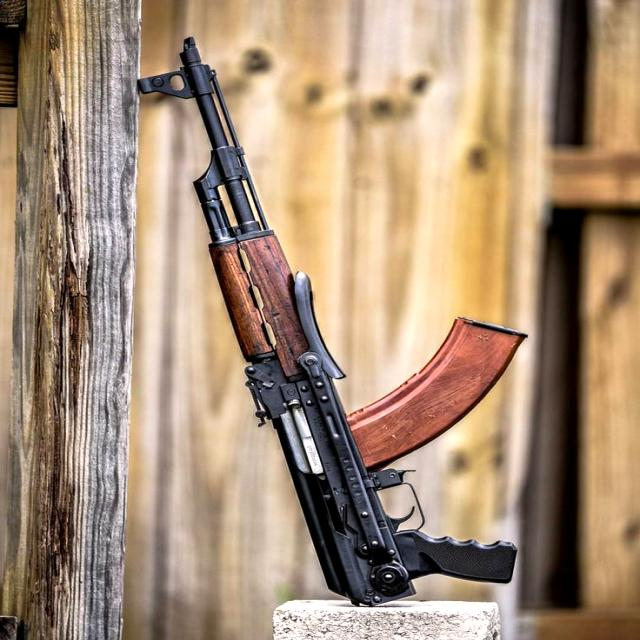ak: (134, 34, 528, 602)
